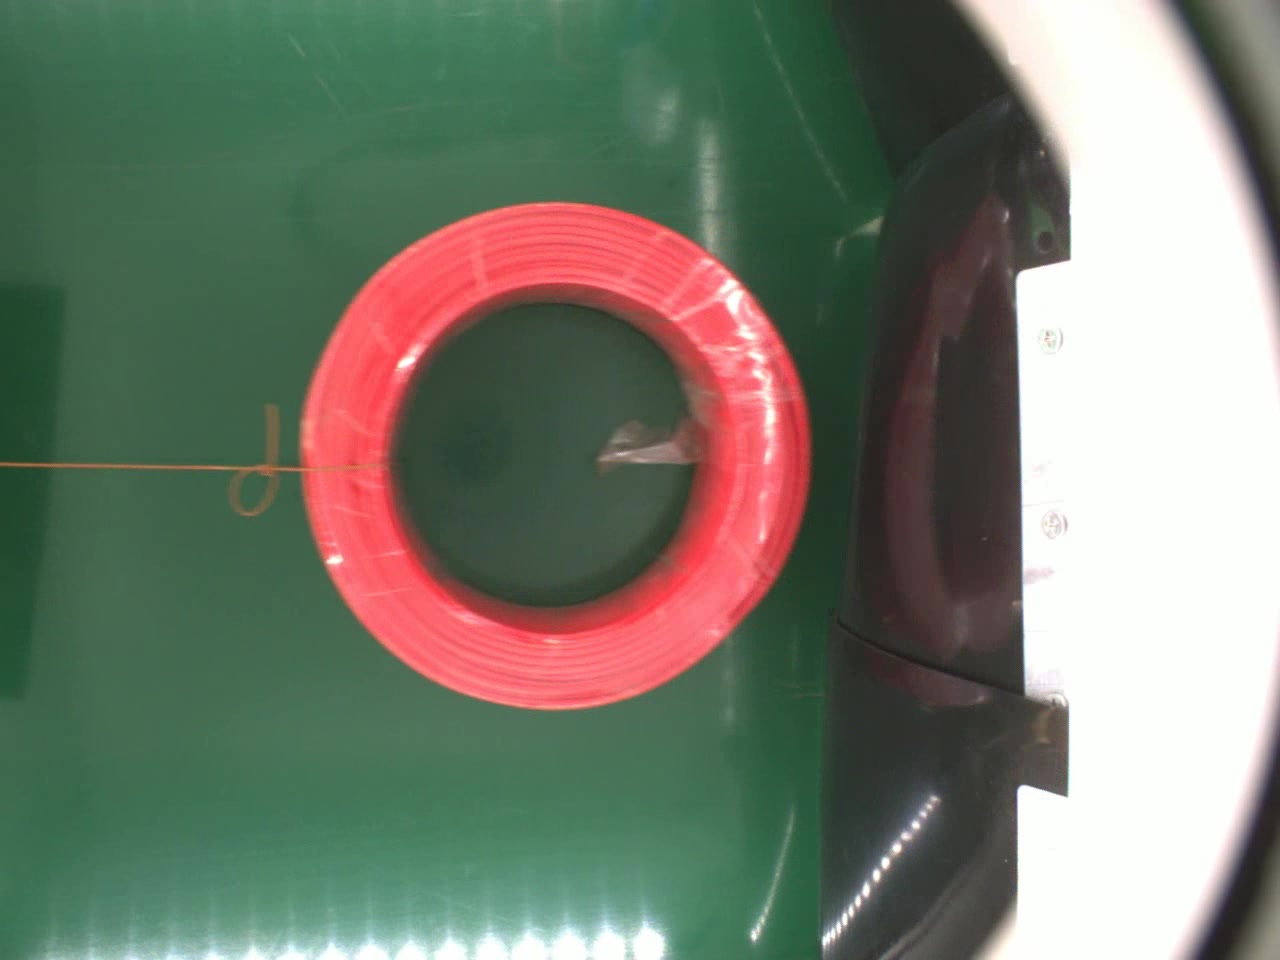red: (298, 197, 814, 715)
